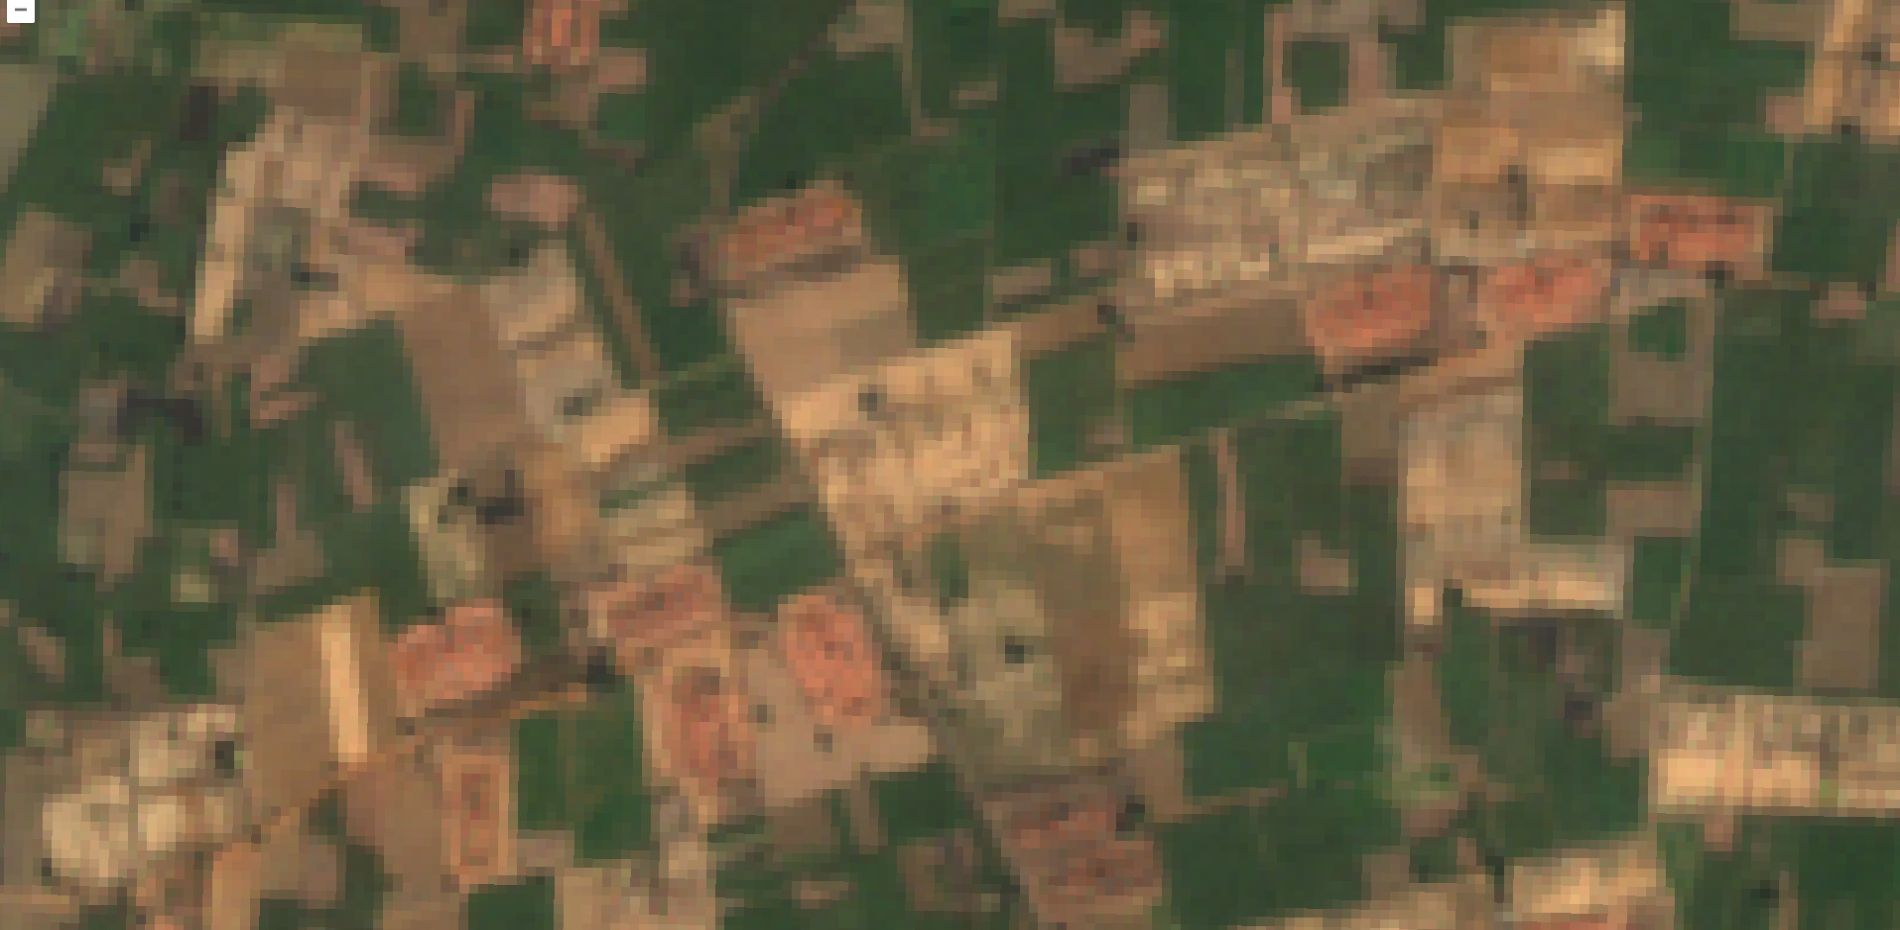brick_kiln: (704, 176, 860, 281), (773, 589, 883, 734), (382, 600, 517, 715), (1300, 264, 1432, 365), (1635, 193, 1765, 274), (1478, 257, 1612, 335), (439, 746, 514, 881), (523, 1, 601, 70)
